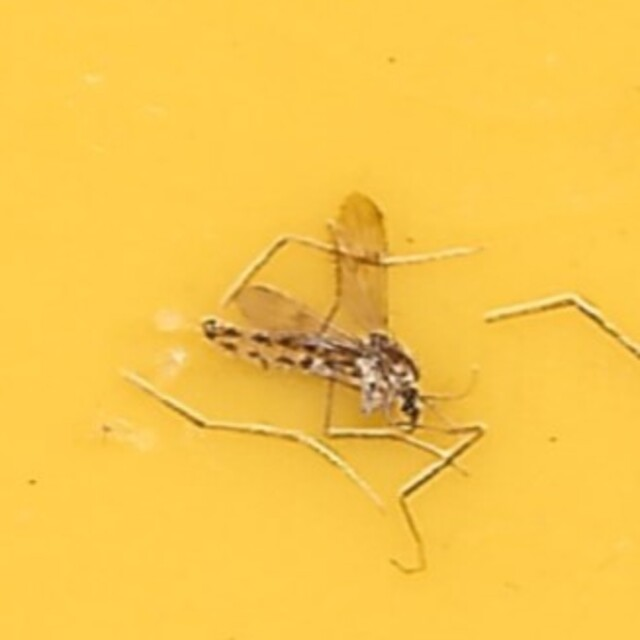Nematocera: (196, 197, 444, 443)
